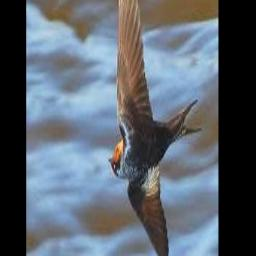Swallow: (108, 0, 201, 256)
